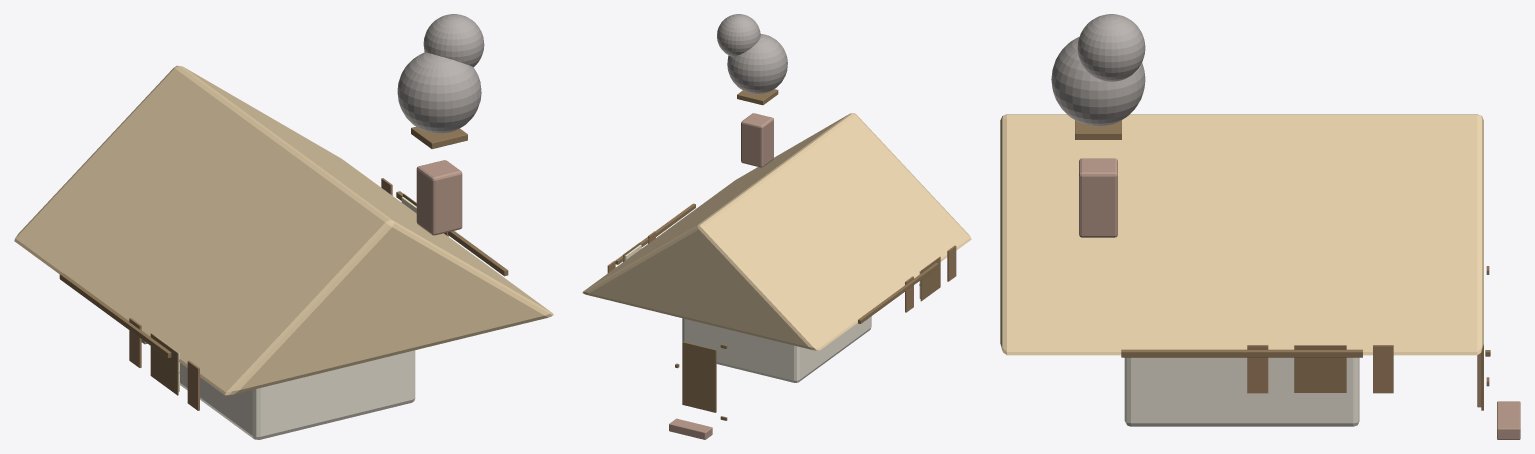
Rendered from cottage_v2.glb.
3 renders of one model, left to right at view 1: azimuth 30°, elevation 25°; view 2: azimuth 150°, elevation 25°; view 3: azimuth 270°, elevation 25°, orthographic. The views are drawn at different scales.
Parts seen in each view (by area): view 1: Roof, Walls, Smoke, ChimneyBase, Smoke2, WinFrame, EaveL, ChimneyCap, EaveR, ShutterL; view 2: Roof, Walls, Smoke, DoorTrim, ChimneyBase, Smoke2, Stoop, WinFrame, EaveL, ChimneyCap, EaveR; view 3: Roof, Walls, Smoke, Smoke2, ChimneyBase, Win2Frame, EaveR, ShutterRR, Stoop, ShutterRL, ChimneyCap.
Part boxes in pixels (x1=…): Roof: x1=14, y1=65, x2=553, y2=395; Walls: x1=180, y1=350, x2=415, y2=439; Smoke: x1=397, y1=52, x2=481, y2=133; ChimneyBase: x1=416, y1=160, x2=462, y2=235; Smoke2: x1=423, y1=14, x2=484, y2=67; WinFrame: x1=150, y1=333, x2=178, y2=395; EaveL: x1=59, y1=273, x2=171, y2=358; ChimneyCap: x1=411, y1=126, x2=467, y2=148; EaveR: x1=396, y1=191, x2=508, y2=276; ShutterL: x1=187, y1=360, x2=199, y2=410; Roof: x1=582, y1=113, x2=971, y2=350; Walls: x1=682, y1=316, x2=871, y2=382; Smoke: x1=727, y1=34, x2=787, y2=94; DoorTrim: x1=682, y1=341, x2=716, y2=412; ChimneyBase: x1=741, y1=113, x2=773, y2=167; Smoke2: x1=717, y1=14, x2=760, y2=56; Stoop: x1=669, y1=418, x2=712, y2=439; WinFrame: x1=920, y1=256, x2=940, y2=301; EaveL: x1=858, y1=263, x2=938, y2=323; ChimneyCap: x1=737, y1=89, x2=778, y2=105; EaveR: x1=615, y1=203, x2=695, y2=264; Roof: x1=1000, y1=114, x2=1483, y2=355; Walls: x1=1124, y1=357, x2=1359, y2=426; Smoke: x1=1051, y1=36, x2=1145, y2=126; Smoke2: x1=1077, y1=14, x2=1145, y2=81; ChimneyBase: x1=1079, y1=158, x2=1117, y2=237; Win2Frame: x1=1294, y1=345, x2=1346, y2=392; EaveR: x1=1121, y1=349, x2=1362, y2=357; ShutterRR: x1=1373, y1=345, x2=1393, y2=393; Stoop: x1=1497, y1=401, x2=1520, y2=439; ShutterRL: x1=1247, y1=345, x2=1268, y2=393; ChimneyCap: x1=1075, y1=120, x2=1121, y2=139.
Size of the model in its own units: 1.68 by 1.99 by 1.99.
